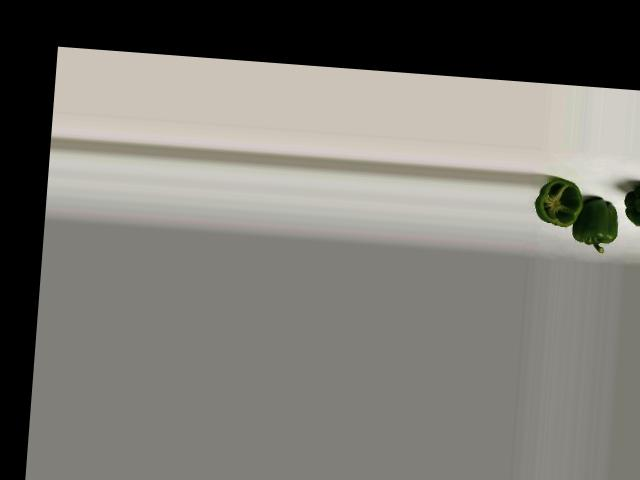bell_pepper: (530, 173, 587, 233)
